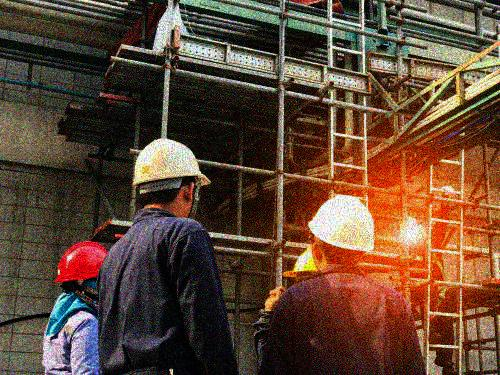helmet: (132, 138, 213, 222), (306, 195, 377, 272), (54, 240, 112, 302), (282, 245, 323, 283)
